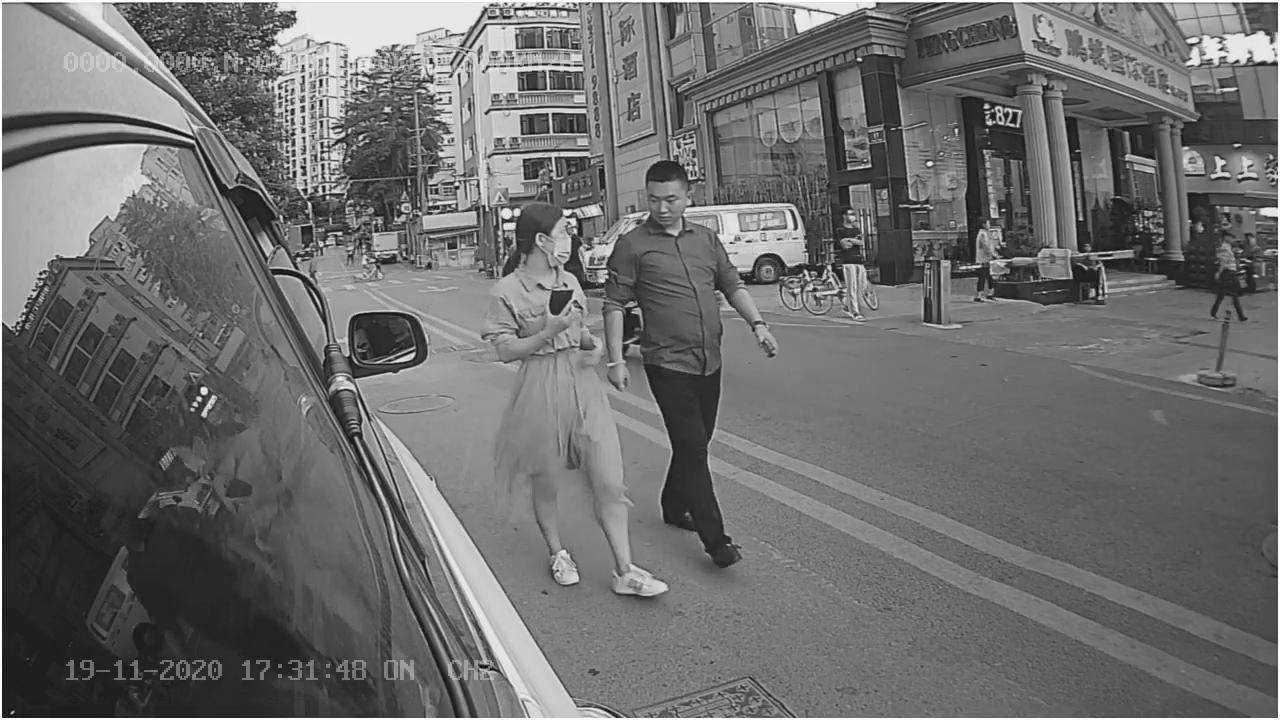person: (483, 197, 622, 505), (621, 164, 767, 452)
